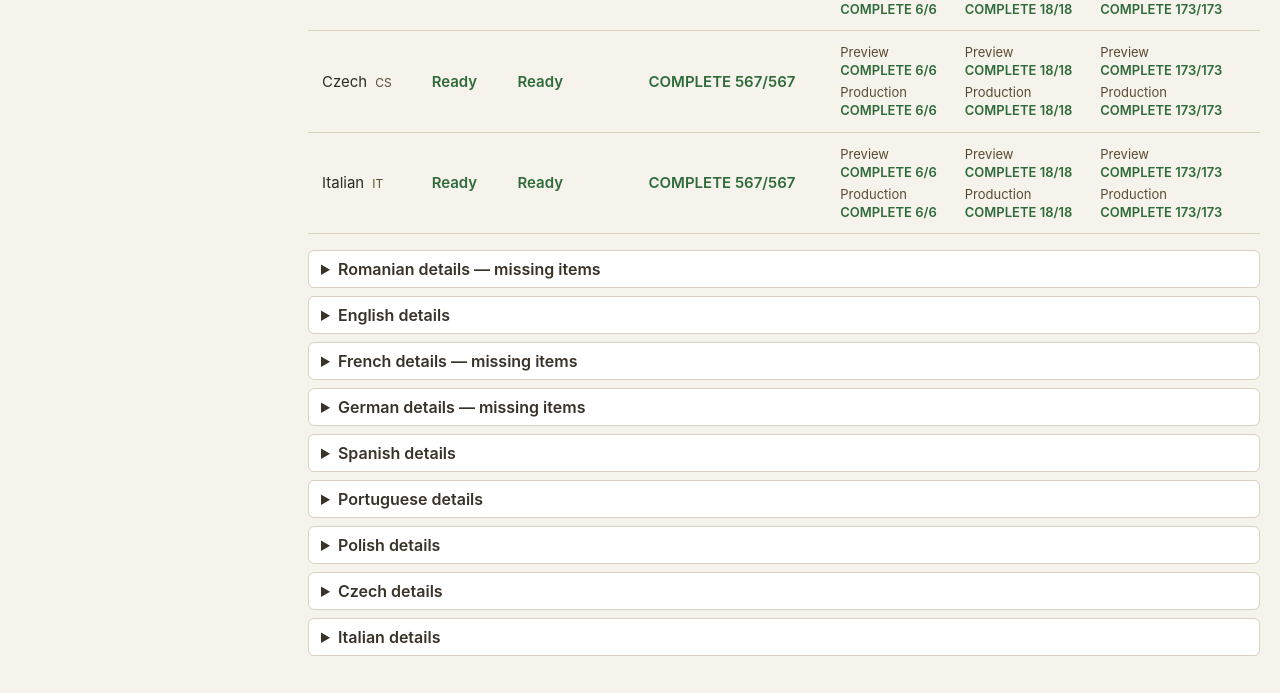
it: Admin Locale Readiness overview › does not flood the overview with large missing lists
This screenshot has width=1280, height=693.
(page scrolled)
Check: the text "key.000" is not shown
Click the heading "French details — missing items".
click(458, 361)  # box [338,351,578,371]
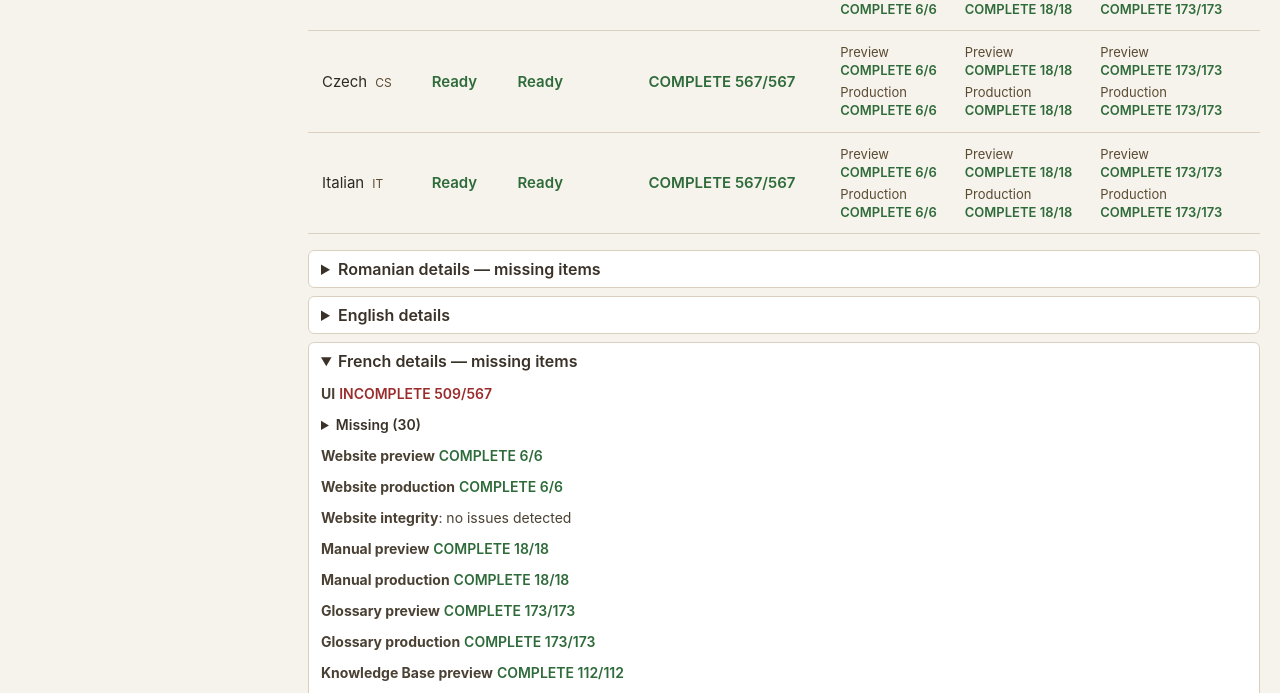
Check: the text "key.000" is not shown
Check: the heading "Missing (30)" is shown
Click the heading "Missing (30)".
click(378, 425)  # box [336,416,421,433]
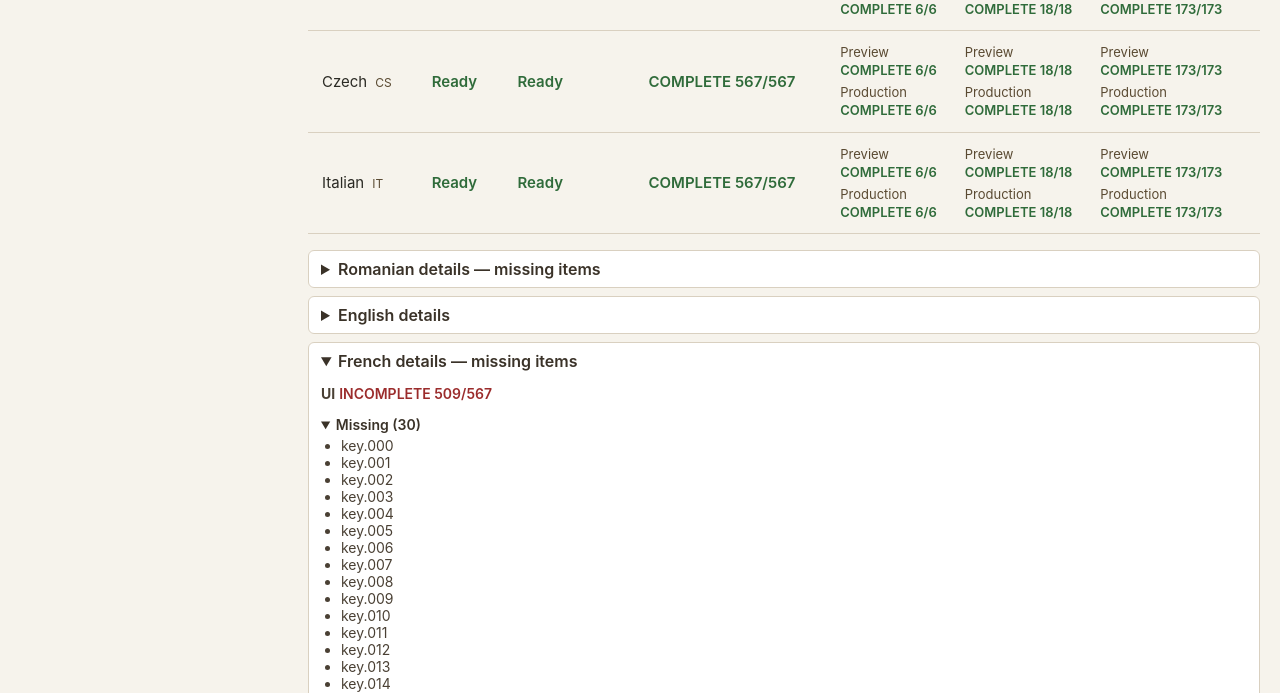
Check: the list item "key.000" is shown, box [341,437,394,454]
